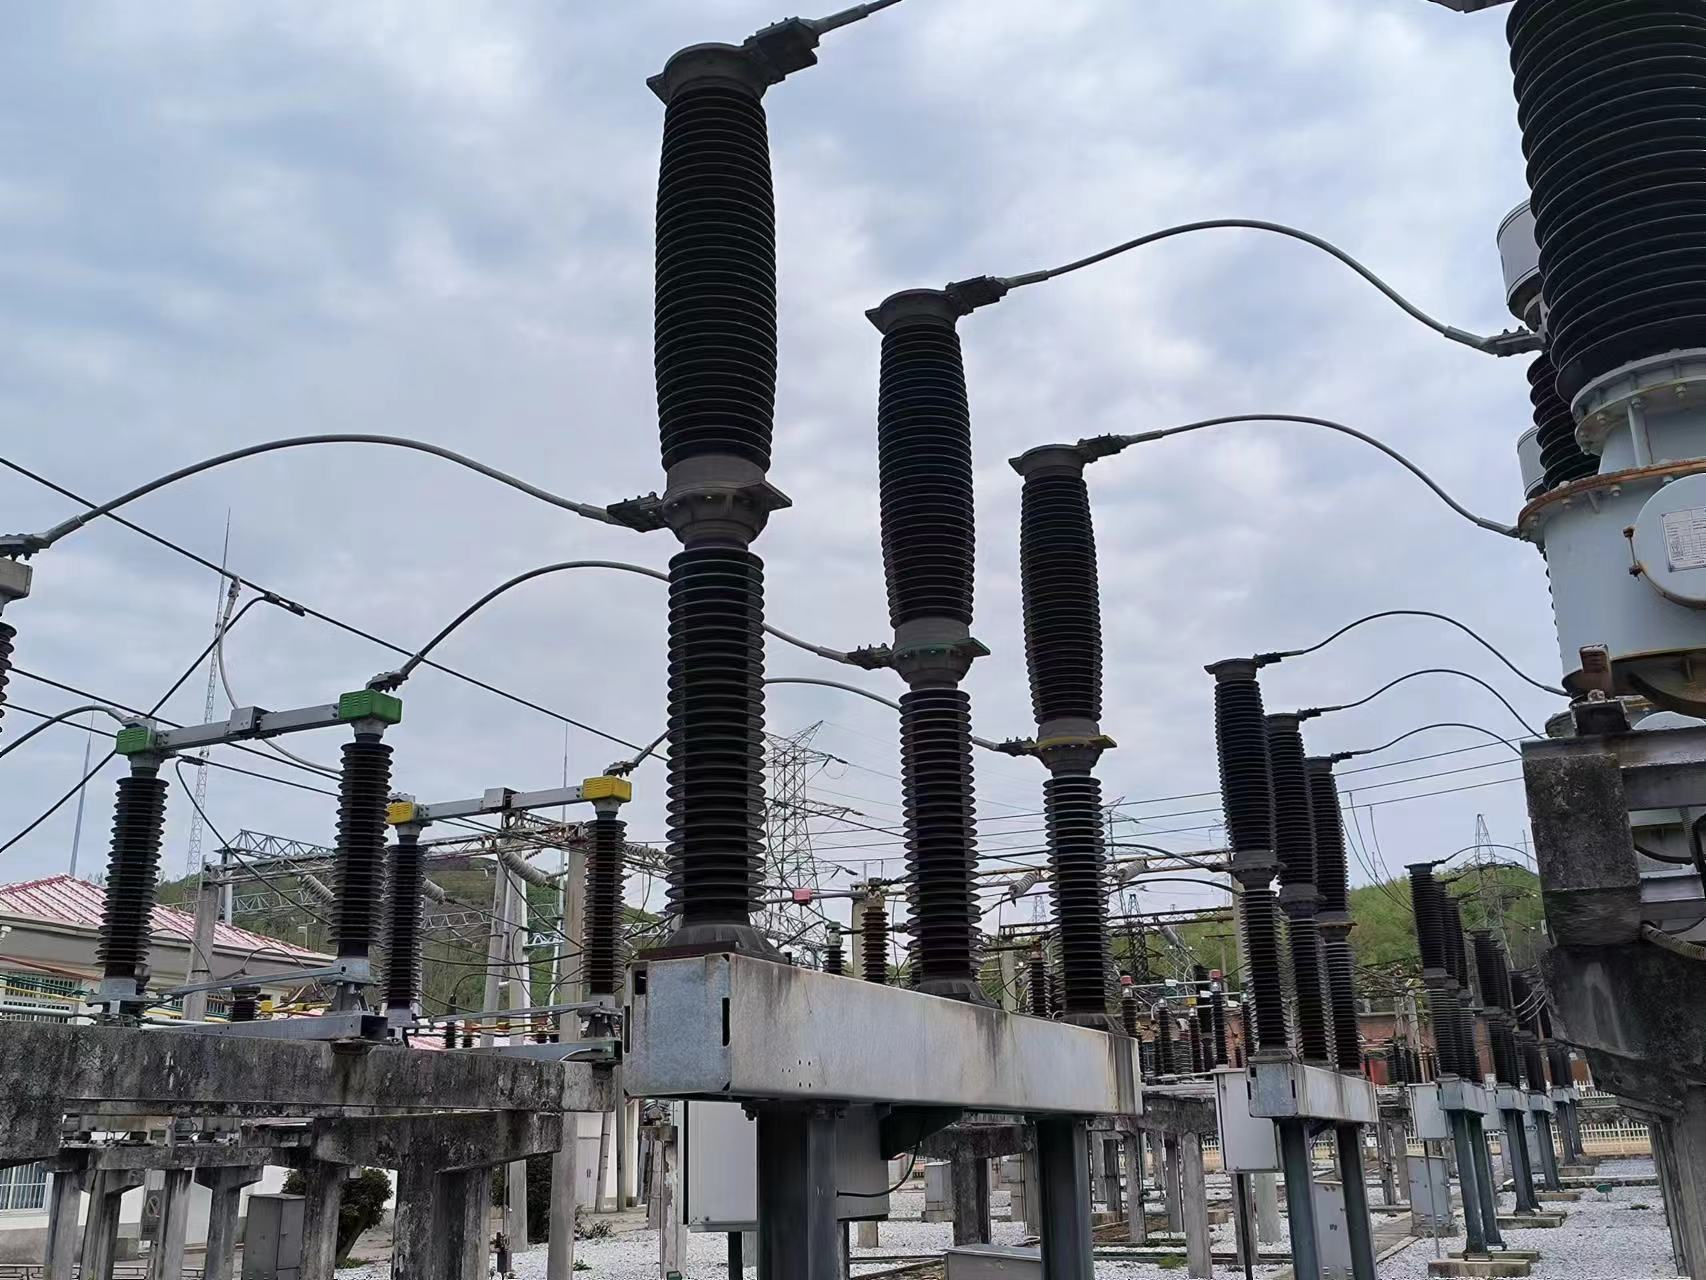Circuit-breaker: (653, 13, 816, 922), (860, 270, 1010, 977), (1016, 432, 1123, 1011)
Disconnecting link: (83, 690, 401, 1007), (387, 774, 635, 1033)
